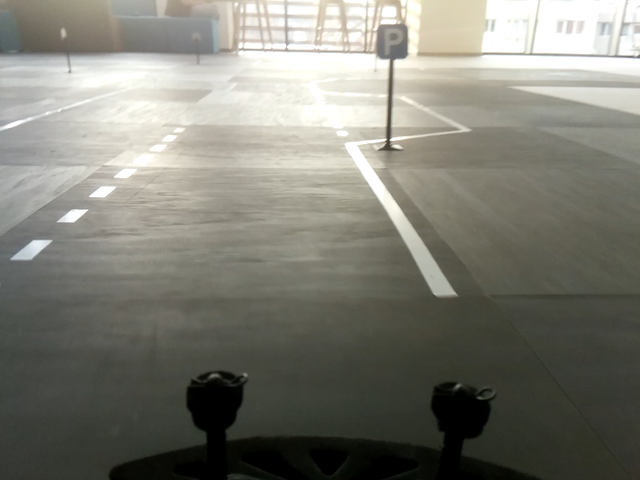parking: (375, 25, 408, 59)
